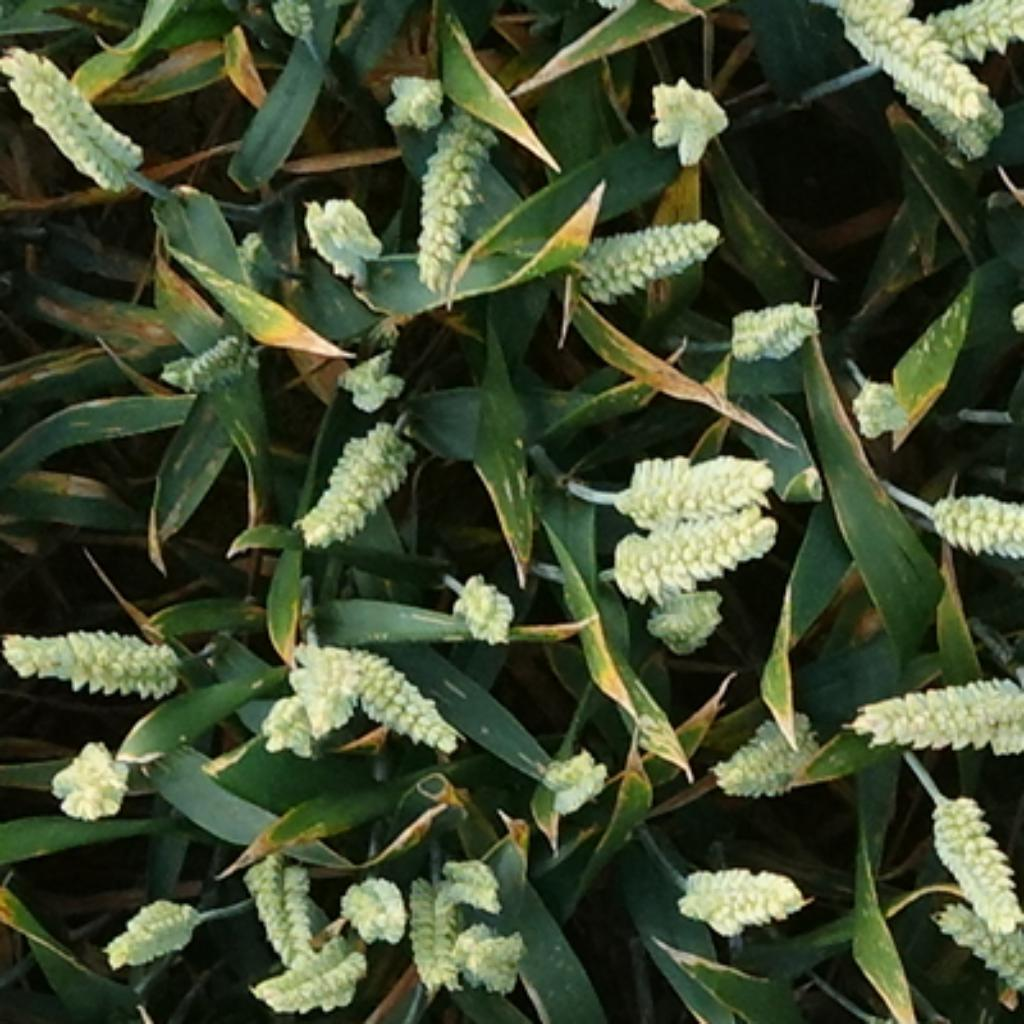0-0: (2, 43, 148, 197), (833, 1, 1002, 129), (317, 627, 460, 747), (296, 407, 422, 542), (852, 663, 1024, 760), (604, 496, 785, 588), (7, 606, 197, 693), (563, 199, 724, 299), (407, 107, 499, 276), (606, 450, 783, 532), (921, 783, 1024, 916), (892, 59, 1007, 162), (714, 709, 832, 806), (670, 857, 811, 936), (916, 465, 1024, 563), (286, 629, 381, 737), (931, 888, 1024, 998), (238, 839, 322, 960), (258, 924, 371, 1008), (885, 2, 1024, 66), (46, 727, 135, 816), (104, 890, 202, 970), (647, 76, 727, 174), (721, 284, 824, 358), (296, 192, 386, 276), (404, 872, 463, 983), (640, 586, 727, 660), (166, 320, 258, 389), (442, 568, 519, 645), (450, 913, 527, 988), (529, 737, 611, 806), (335, 862, 407, 934), (258, 686, 322, 765), (432, 844, 504, 913), (378, 53, 448, 122), (337, 345, 407, 412), (849, 373, 913, 440), (271, 2, 314, 40)
